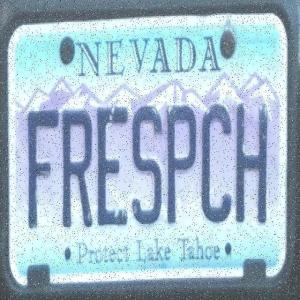Plate: (5, 15, 296, 291)
